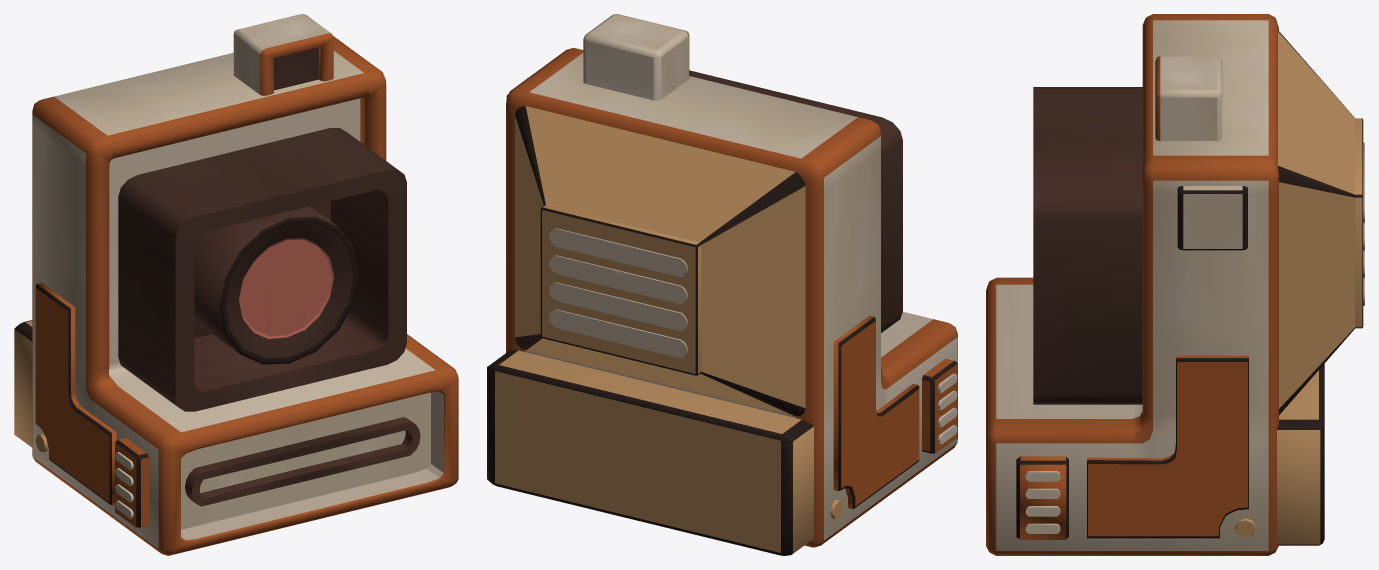
The model's file is cameraLoot_model.fbx.
3 renders of one model, left to right at view 1: azimuth 30°, elevation 25°; view 2: azimuth 150°, elevation 25°; view 3: azimuth 270°, elevation 25°, orthographic. The views are drawn at different scales.
Visible parts, largest first — view 1: dog; view 2: dog; view 3: dog.
Boxes of the visible parts, x1,y1,x2,y2 form: dog: (14, 14, 458, 555); dog: (487, 14, 957, 555); dog: (986, 14, 1364, 555).
Bounding box in the file's own units: 136 × 164 × 127.
